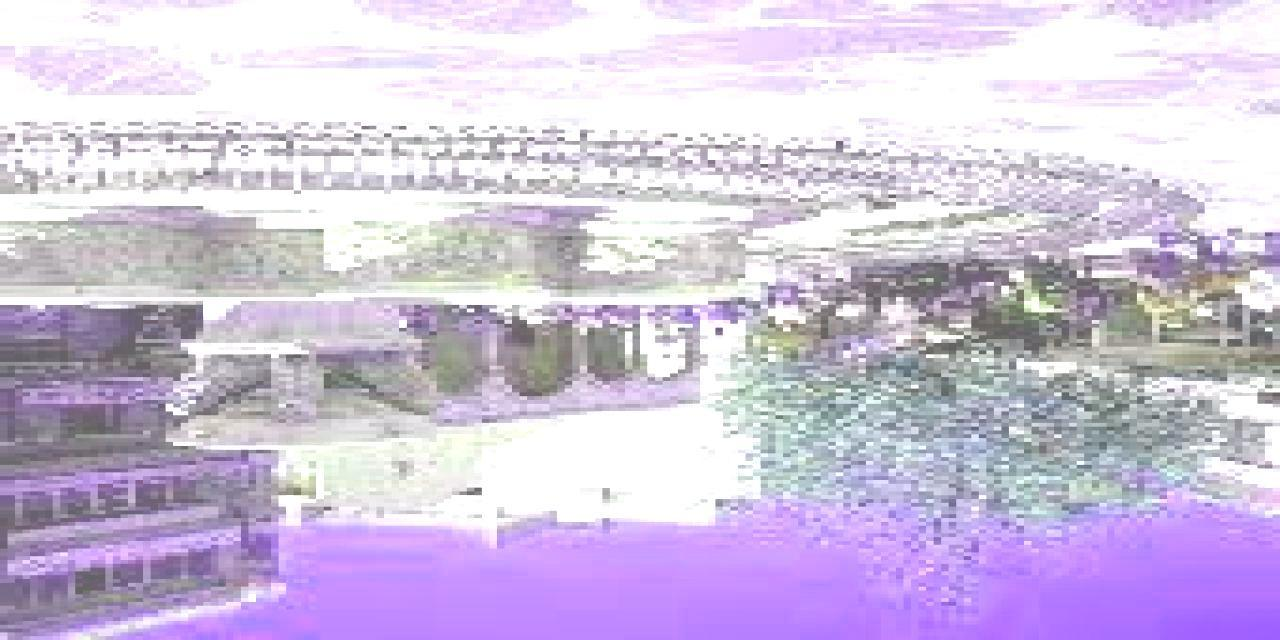Liontaria: (1, 213, 728, 469)
